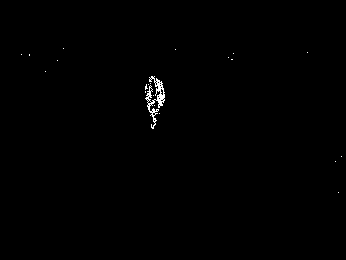person: (144, 73, 167, 130)
